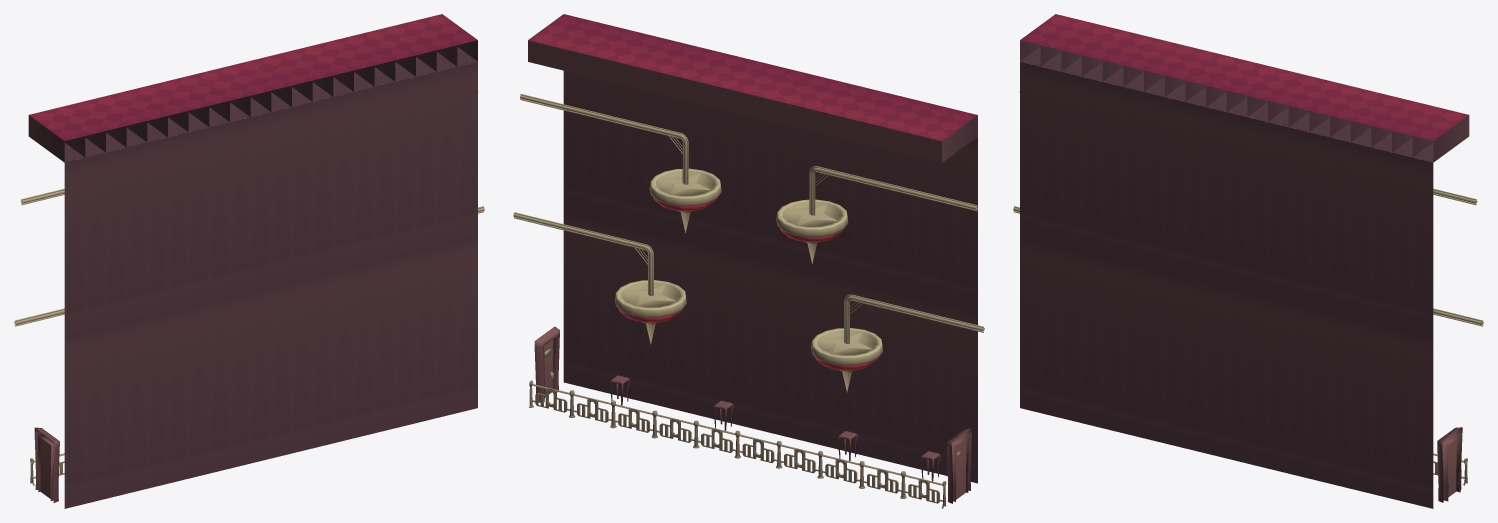
The model's file is SM_ChandelierRoom.fbx.
The picture shows the model from 3 angles, left to right: view 1: azimuth 30°, elevation 25°; view 2: azimuth 150°, elevation 25°; view 3: azimuth 330°, elevation 25°; orthographic projection.
Parts seen in each view (by area): view 1: SM_ChandelierRoom; view 2: SM_ChandelierRoom; view 3: SM_ChandelierRoom.
Part boxes in pixels (<box>): SM_ChandelierRoom: <box>14,14,484,508</box>; SM_ChandelierRoom: <box>513,14,984,508</box>; SM_ChandelierRoom: <box>1013,14,1483,508</box>.
Bounding box in the file's own units: 335 × 2268 × 1702.
